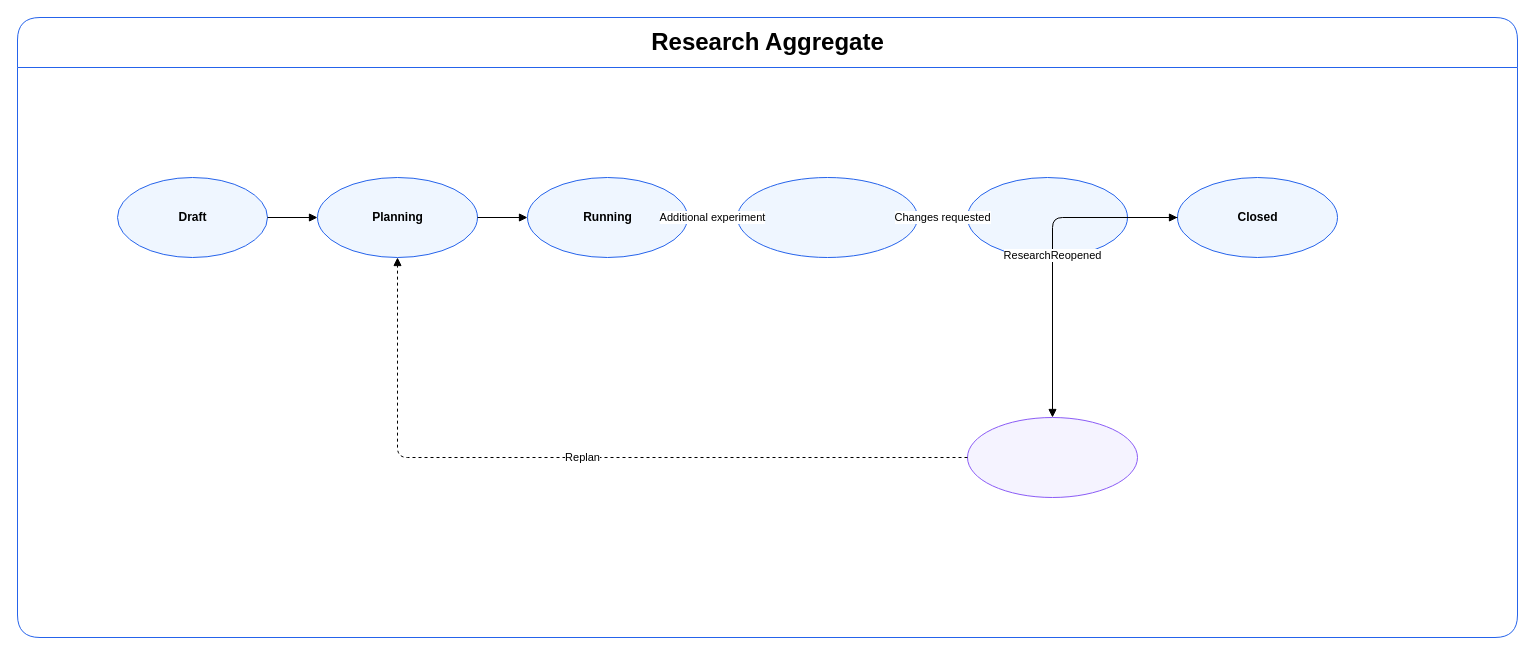
The diagram is 1535 pixels wide and 655 high, and some of its shapes have lost their labels. The shapes that lost their labels are listed below. From the top down, each one's centre as x and y in pixels, then its label:
the point at 827,217: Synthesizing
the point at 1047,217: Reviewed
the point at 1052,457: Reopened
